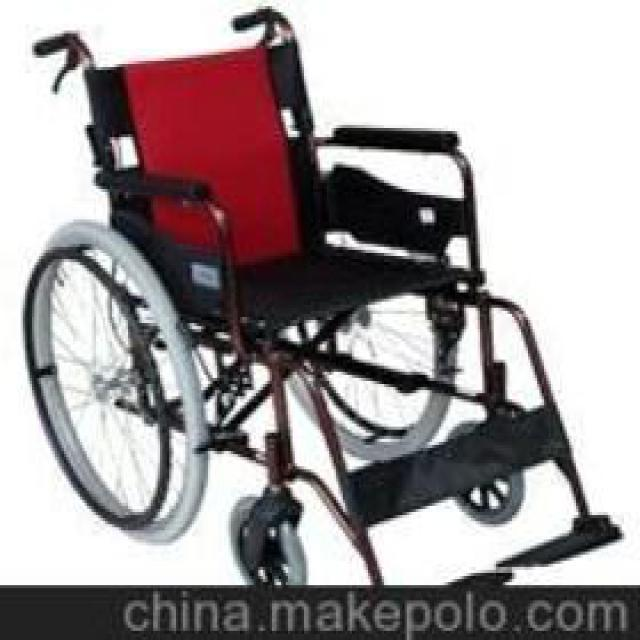wheelchairs: (18, 9, 618, 585)
